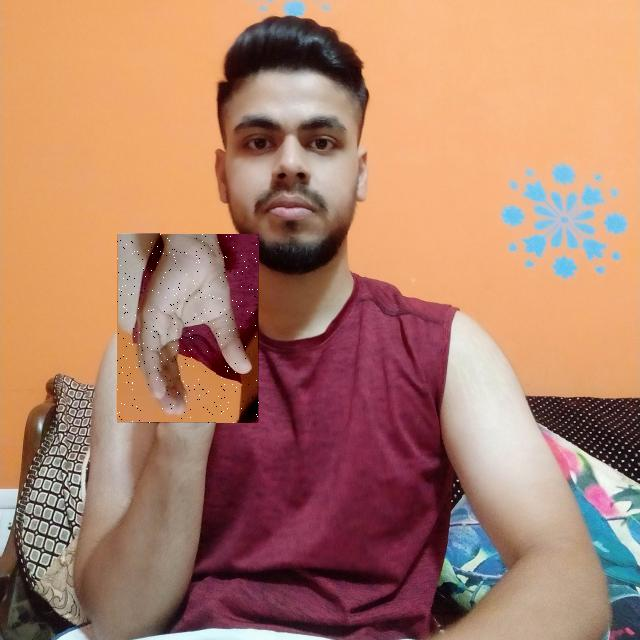U: (117, 234, 259, 423)
